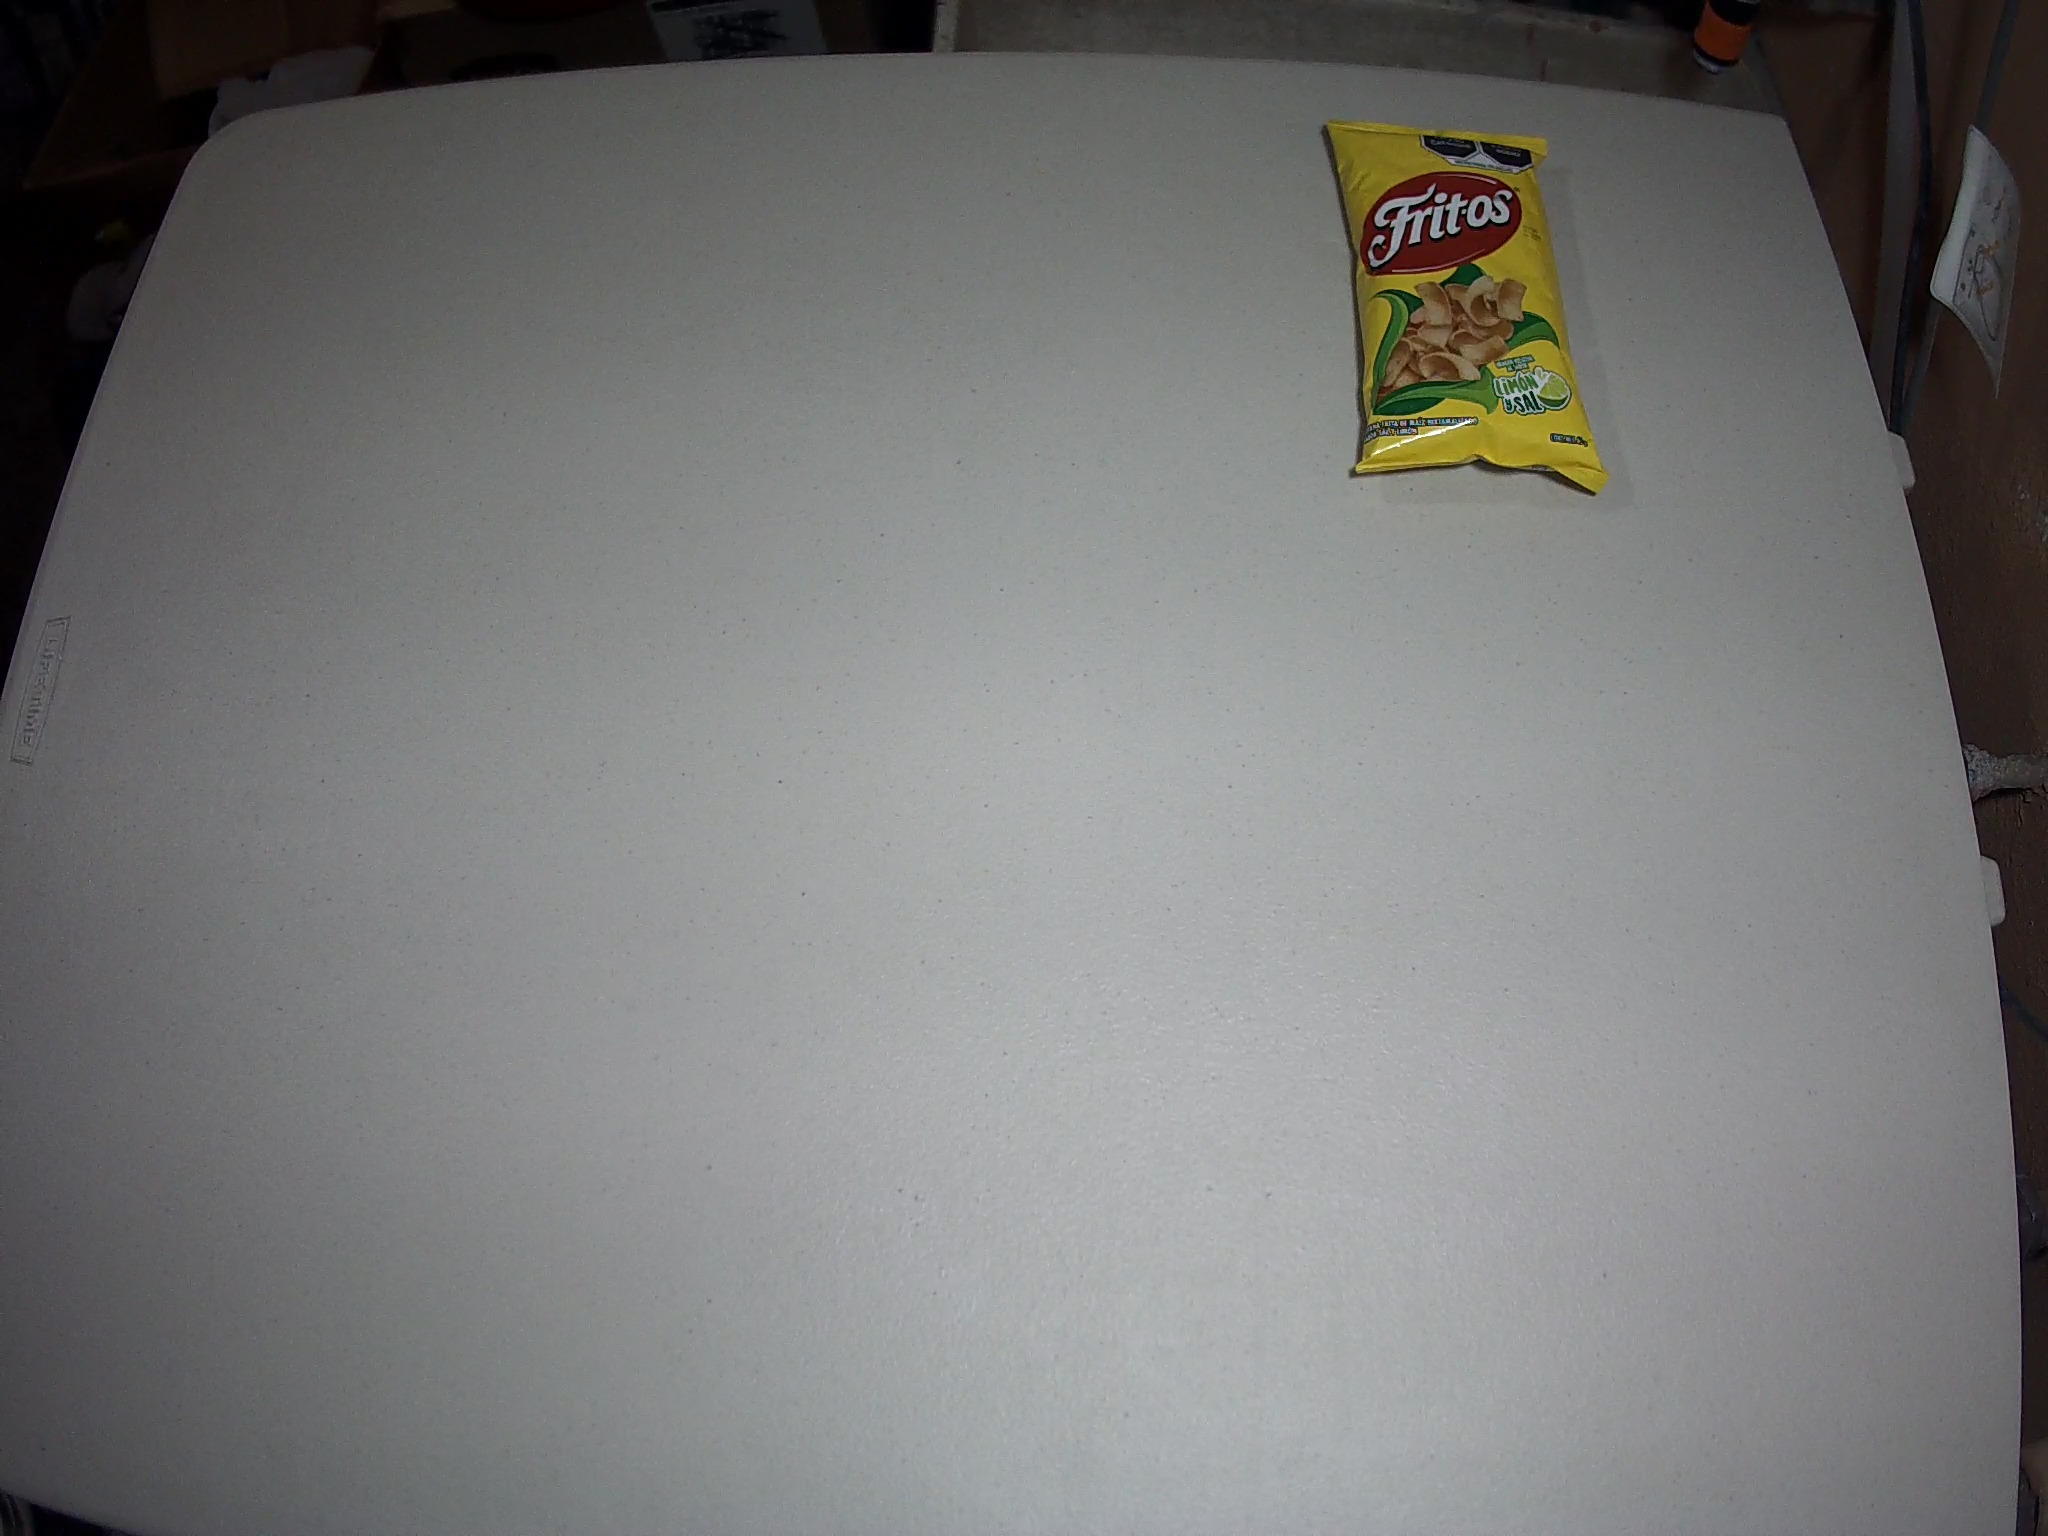FritosSalLimon_65_F: (1322, 118, 1609, 497)
